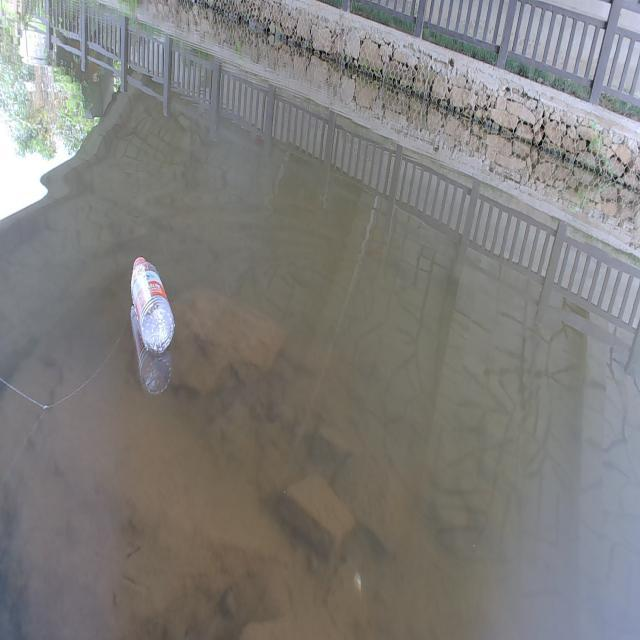bottle: (113, 228, 196, 375)
